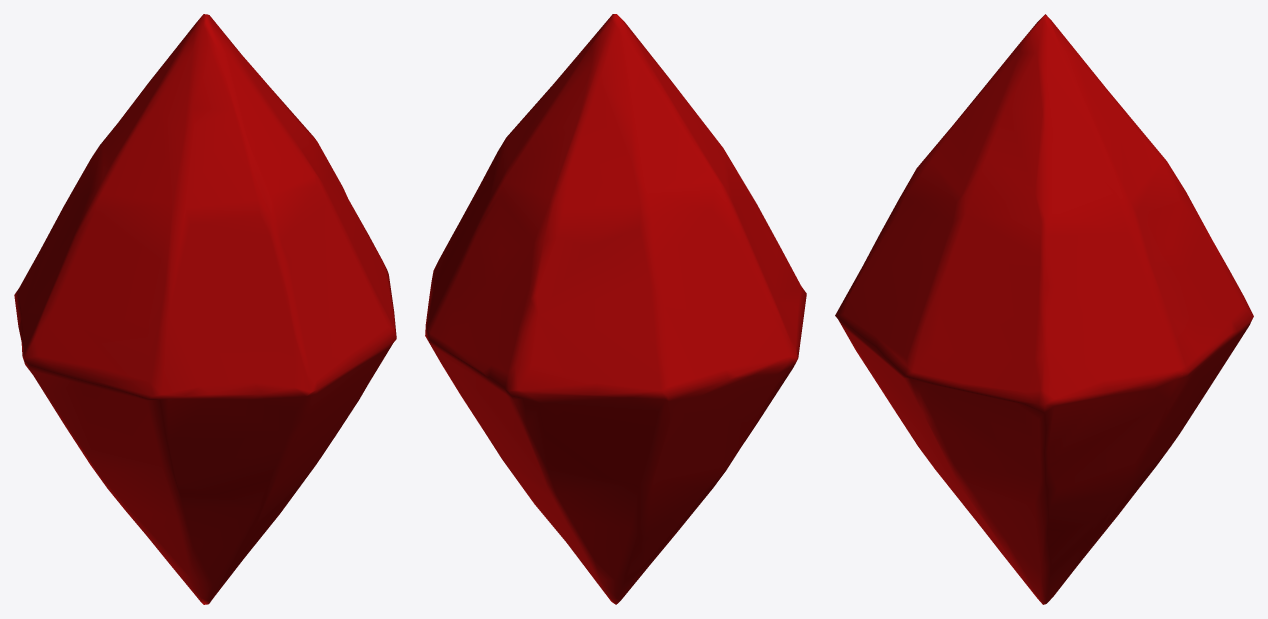
Rendered from gen3d-fire-gem-lod0.glb.
3 renders of one model, left to right at view 1: azimuth 30°, elevation 25°; view 2: azimuth 150°, elevation 25°; view 3: azimuth 270°, elevation 25°, orthographic.
Parts seen in each view (by area): view 1: part_0; view 2: part_0; view 3: part_0.
Boxes of the visible parts, x1,y1,x2,y2 form: part_0: (14, 14, 396, 604); part_0: (425, 14, 806, 604); part_0: (835, 14, 1253, 604).
Size of the model in its own units: 0.6421 by 0.9976 by 0.6423.
